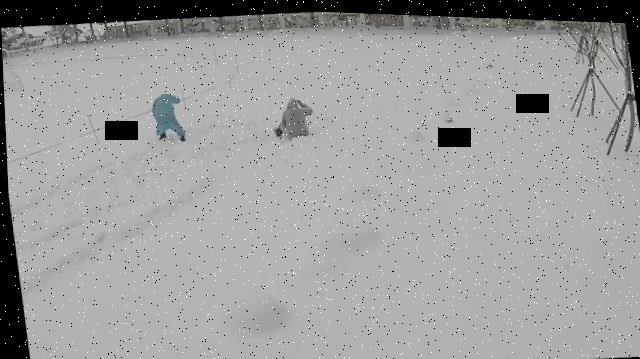fall: (265, 89, 316, 141), (148, 87, 193, 144)
